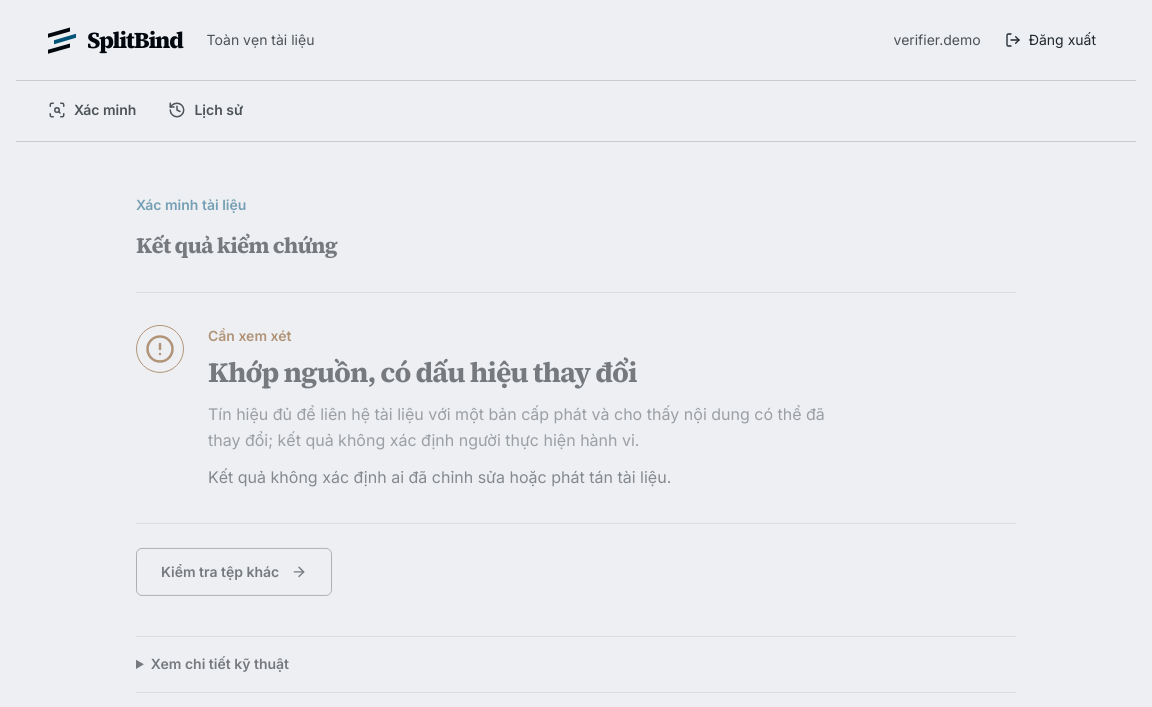
Test: verification browser workflow › renders contract facts without recipient disclosure or invented geometry
The image size is (1152, 707).
Expected: the heading "Khớp nguồn, có dấu hiệu thay đổi" is shown, [208,353,637,391]
Click the heading "Xem chi tiết kỹ thuật": point(220, 664) [151,655,289,672]
(page scrolled)
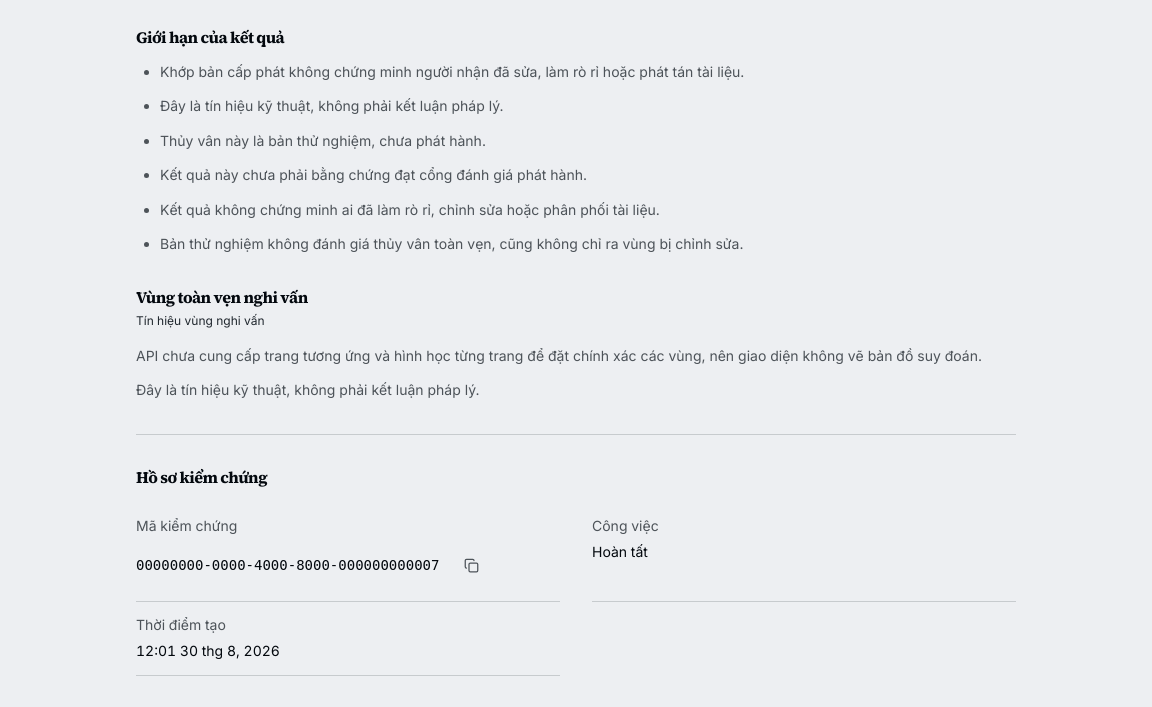
Now the list item "Bản thử nghiệm không đánh giá thủy vân toàn vẹn, cũng không chỉ ra vùng bị chỉnh sửa." is shown, box [160,235,743,252]
Now the text "API chưa cung cấp trang tương ứng và hình học từng trang" is shown, box [136,347,982,364]
